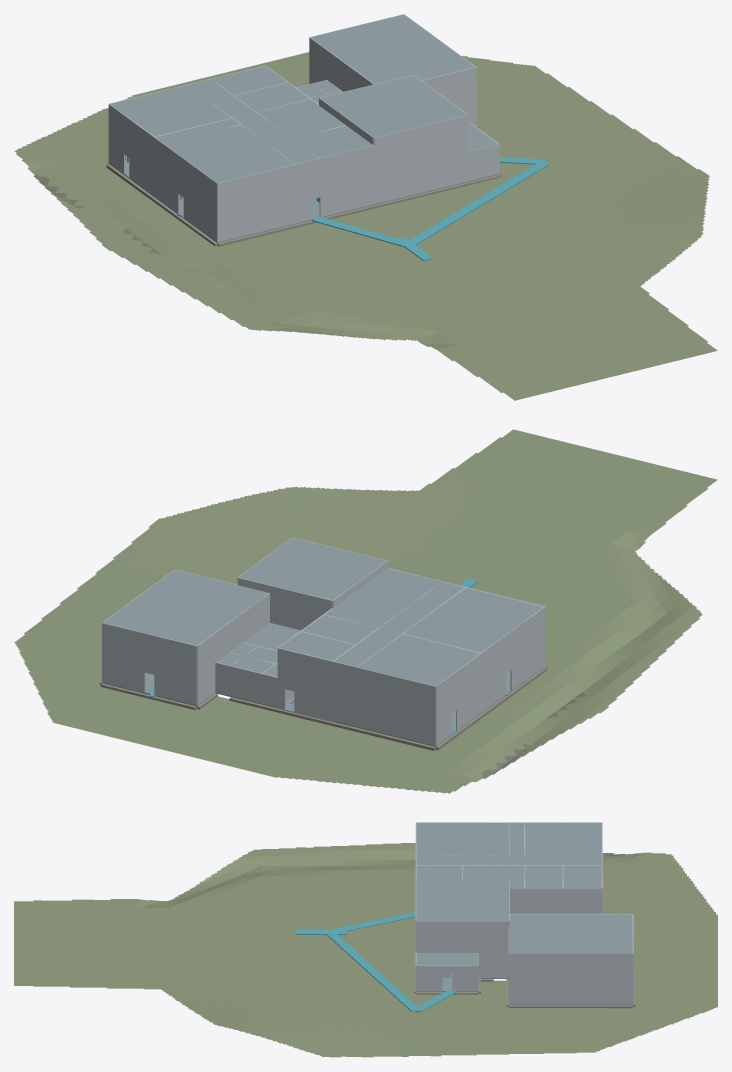
File: closed-floors.glb
3 views of the same model, one above another, from view 1: azimuth 30°, elevation 25°; view 2: azimuth 150°, elevation 25°; view 3: azimuth 270°, elevation 25° (orthographic). The views are drawn at different scales.
Visible parts, largest first — view 1: Saved editor macroterrain SCHOOL, Ceiling cap gym, Ceiling cap assembly, Ceiling cap library, Wall assembly S, Ceiling cap class-b, Ceiling cap upper-corridor, Wall library S, Wall class-a-store S, Ceiling cap upper-stair, Wall dining S, Wall upper-lobby S (+17 smaller); view 2: Saved editor macroterrain SCHOOL, Ceiling cap gym, Ceiling cap assembly, Ceiling cap library, Ceiling cap class-b, Wall gym N.001, Wall gym N, Ceiling cap upper-corridor, Wall class-b N, Wall science N, Wall assembly N, Ceiling cap upper-stair (+15 smaller); view 3: Saved editor macroterrain SCHOOL, Wall gym E, Ceiling cap gym, Ceiling cap assembly, Ceiling cap library, Wall assembly E, Ceiling cap class-b, Ceiling cap upper-corridor, Ceiling cap upper-stair, Wall wash-b E, Wall wash-a E, L41 support 1 (+10 smaller).
Part boxes in pixels (x1,y1,x2,y2): Saved editor macroterrain SCHOOL: (14,52,717,400); Ceiling cap gym: (311,14,475,84); Ceiling cap assembly: (320,75,467,137); Ceiling cap library: (164,124,294,182); Wall assembly S: (374,115,467,174); Ceiling cap class-b: (110,85,231,136); Ceiling cap upper-corridor: (188,79,318,163); Wall library S: (217,164,295,212); Wall class-a-store S: (217,194,295,242); Ceiling cap upper-stair: (257,99,345,138); Wall dining S: (374,159,436,203); Wall upper-lobby S: (319,145,374,187); Saved editor macroterrain SCHOOL: (14,429,717,793); Ceiling cap gym: (103,569,268,645); Ceiling cap assembly: (238,538,386,600); Ceiling cap library: (412,588,542,646); Ceiling cap class-b: (357,634,480,686); Wall gym N.001: (102,623,145,692); Wall gym N: (154,635,196,705); Ceiling cap upper-corridor: (334,581,464,666); Wall class-b N: (356,667,435,715); Wall science N: (356,697,435,745); Wall assembly N: (238,577,332,630); Ceiling cap upper-stair: (325,588,414,627); Saved editor macroterrain SCHOOL: (14,843,717,1057); Wall gym E: (509,953,632,1004); Ceiling cap gym: (509,914,632,953); Ceiling cap assembly: (416,881,508,920); Ceiling cap library: (416,822,508,855); Wall assembly E: (416,921,508,952); Ceiling cap class-b: (524,822,601,855); Ceiling cap upper-corridor: (416,855,601,865); Ceiling cap upper-stair: (462,865,524,887); Wall wash-b E: (524,888,563,913); Wall wash-a E: (563,888,601,913); L41 support 1: (326,931,419,1011).
Bounding box in the file's own units: 67 × 11.26 × 91.
23 materials, 16 textured.
